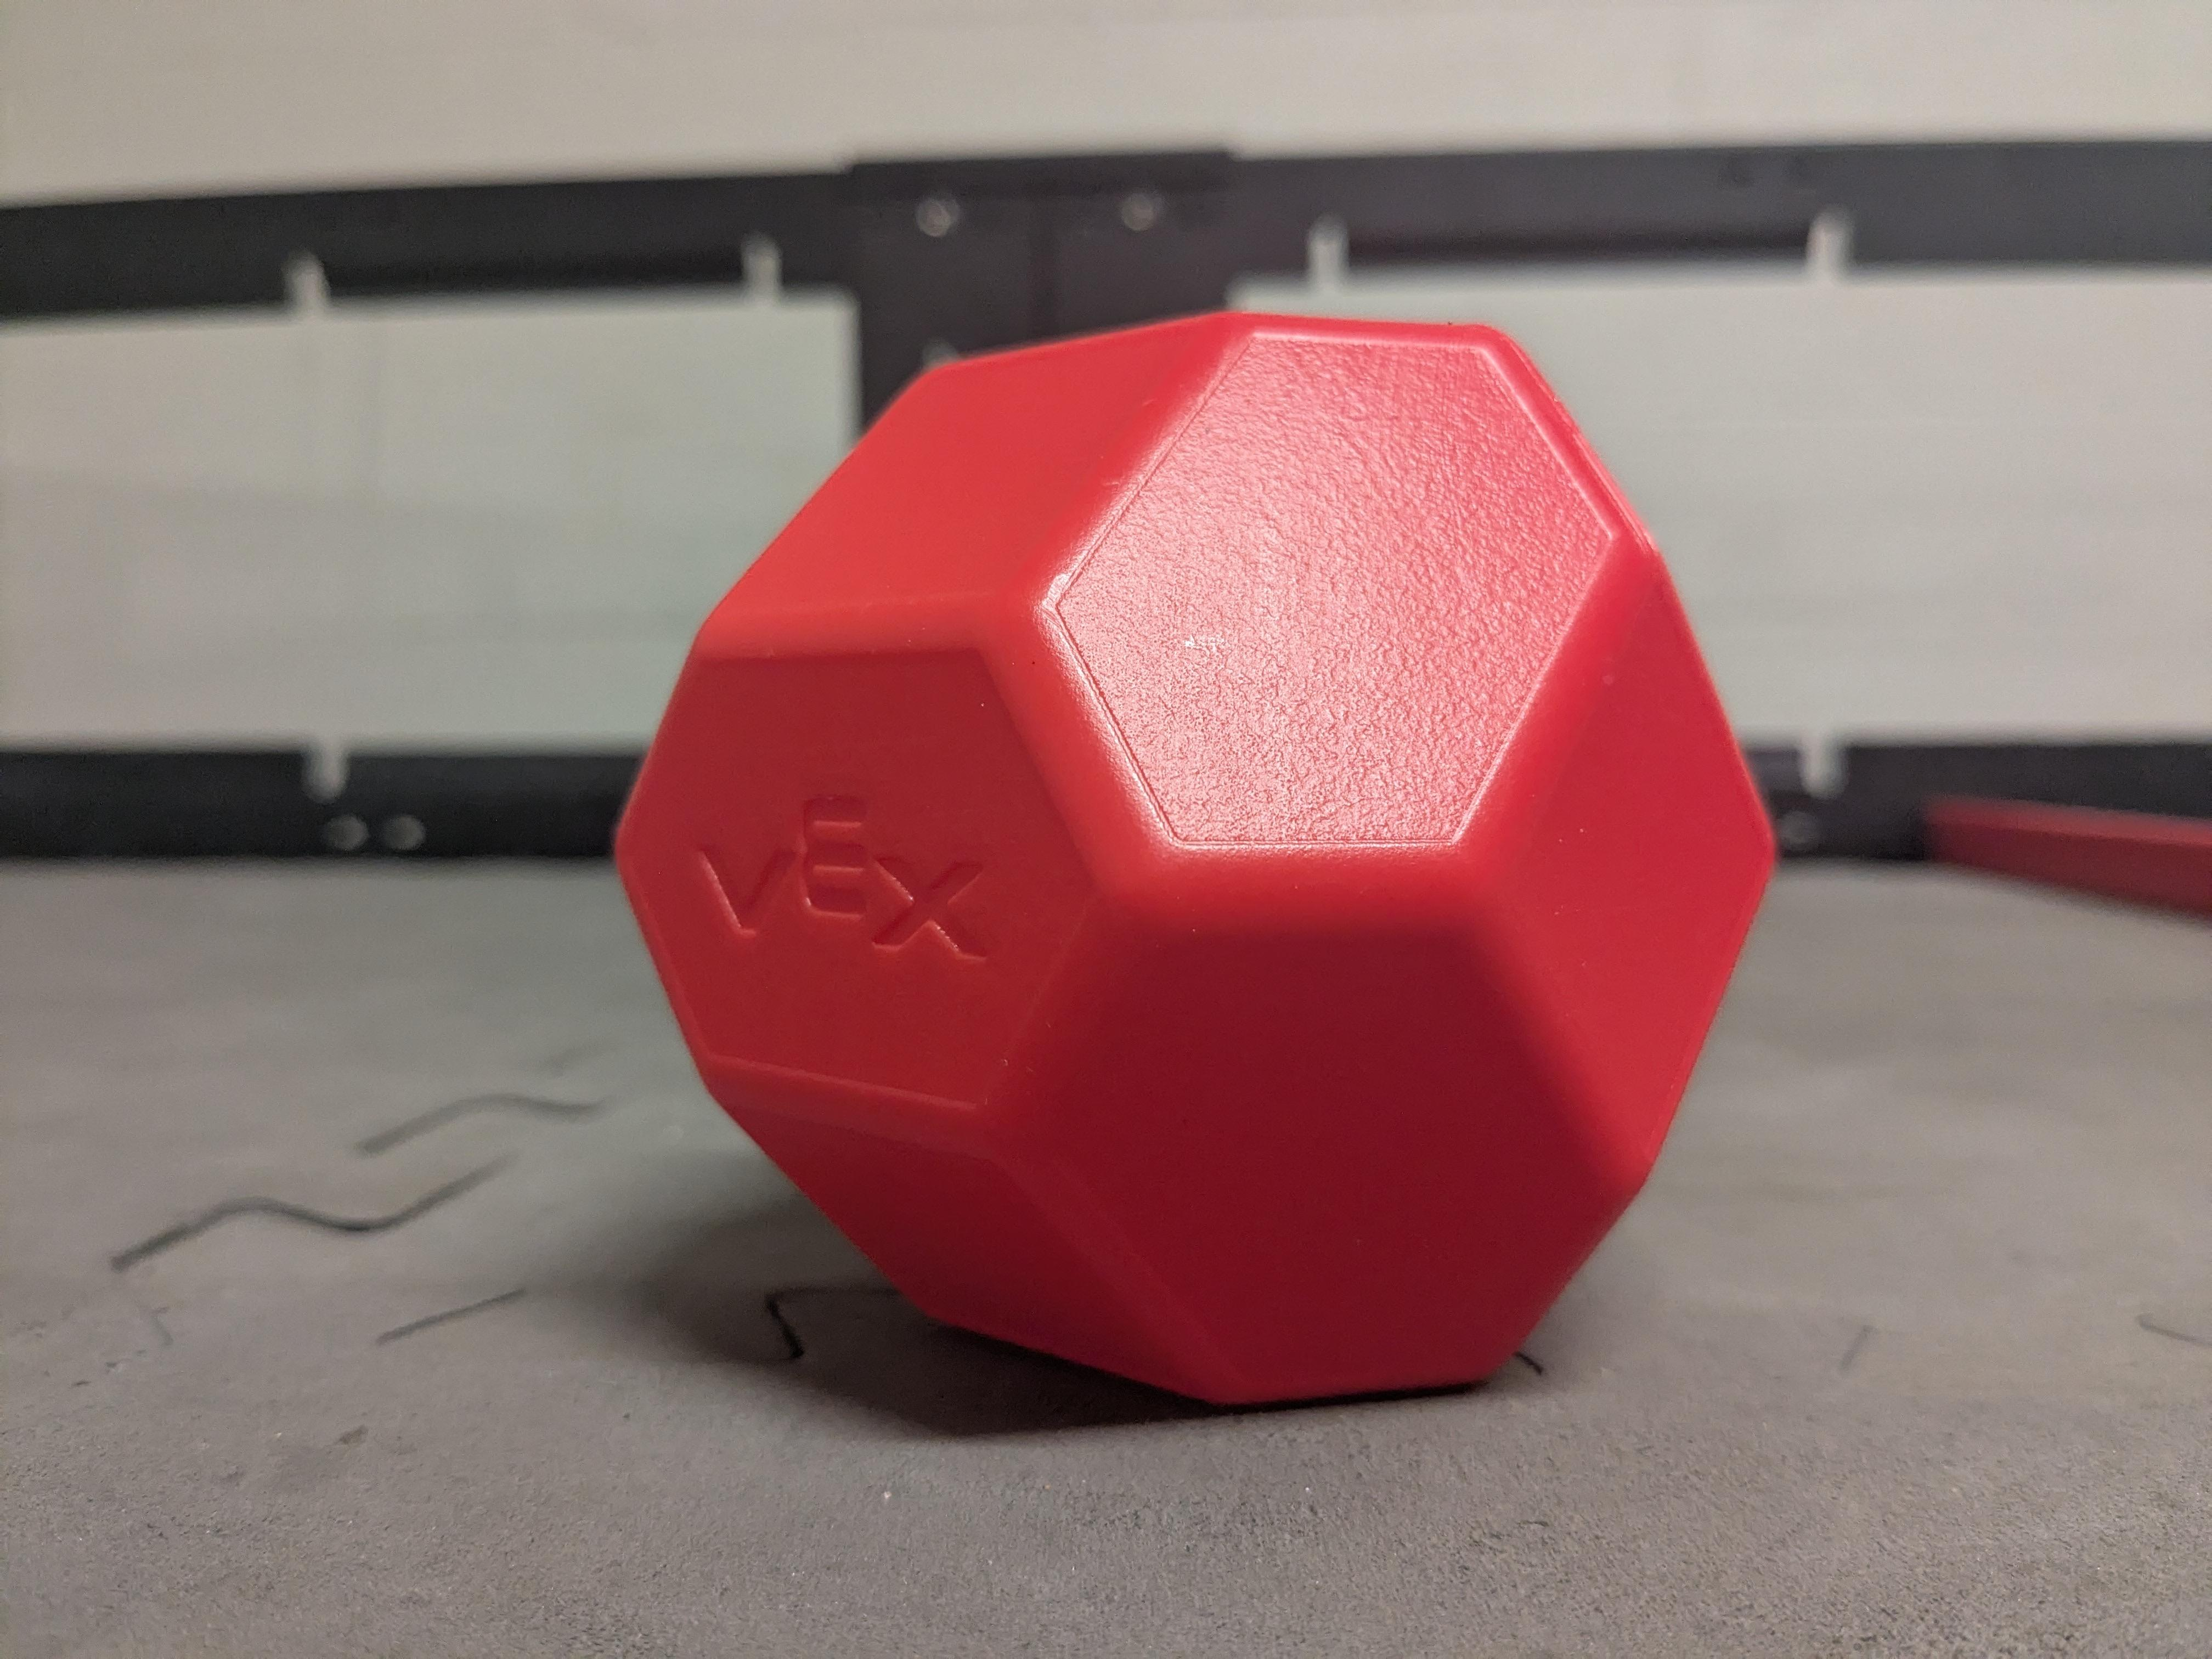Vex-Pieces-RED: (618, 315, 1771, 1401)
